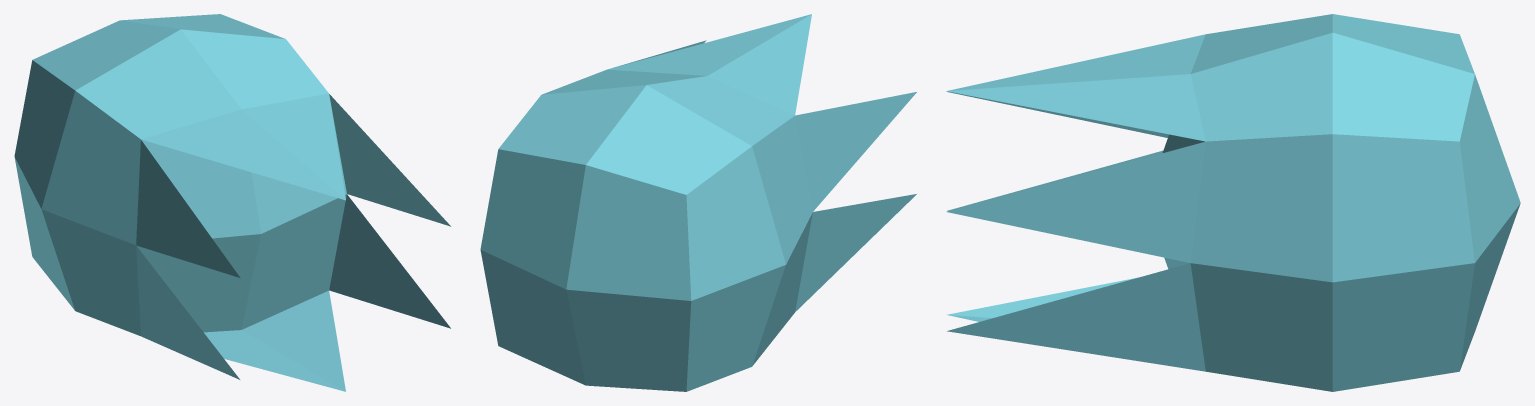
File: ice_ball.glb
The picture shows the model from 3 angles, left to right: view 1: azimuth 30°, elevation 25°; view 2: azimuth 150°, elevation 25°; view 3: azimuth 270°, elevation 25°; orthographic projection. The views are drawn at different scales.
Visible parts, largest first — view 1: Cube; view 2: Cube; view 3: Cube.
Part boxes in pixels (x1=…): Cube: x1=14, y1=14, x2=450, y2=391; Cube: x1=480, y1=14, x2=916, y2=391; Cube: x1=946, y1=14, x2=1520, y2=391.
Size of the model in its own units: 2 by 2 by 3.06.
